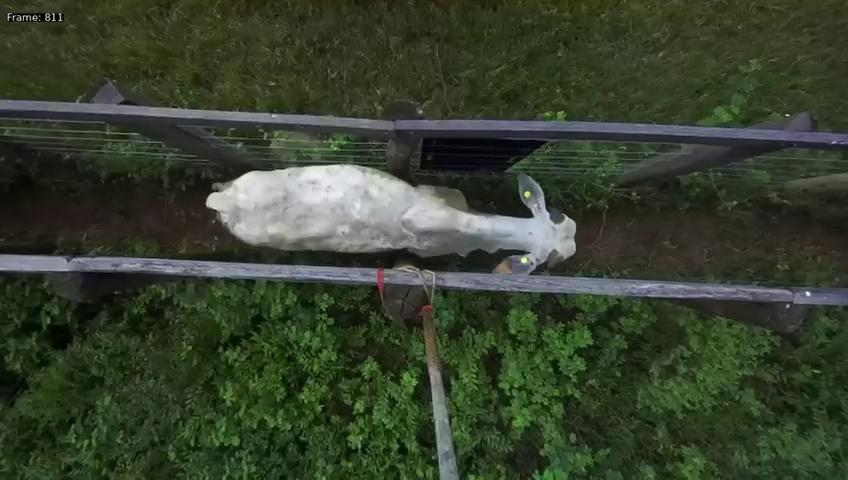cattle: (204, 152, 579, 275)
